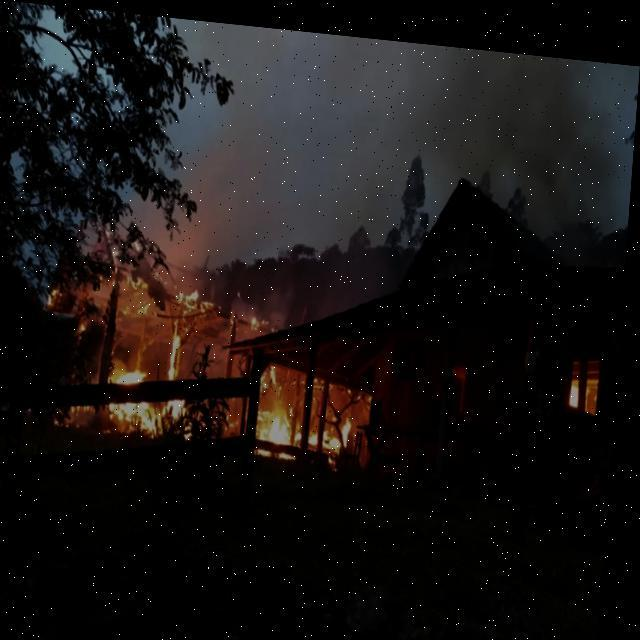Fire: (158, 20, 630, 350), (260, 394, 360, 462), (119, 388, 204, 437), (171, 320, 202, 376), (116, 360, 157, 386), (178, 282, 219, 308), (572, 370, 598, 402), (262, 354, 284, 388), (252, 306, 276, 327), (46, 288, 66, 306)
